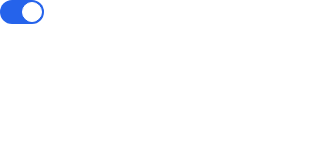
Test case: MuteButton Component › toggles mute state when clicked (toggle variant)
The width and height of the screenshot is (320, 160).
# Click to mute
Click the checkbox.
click(22, 12)  # box 0,0 -> 44,24
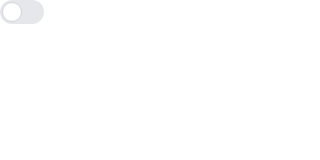
Expected: the checkbox is not checked
# Click to unmute
Click the checkbox.
click(22, 12)  # box 0,0 -> 44,24
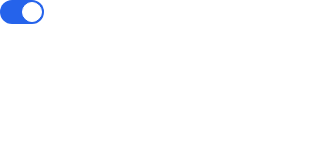
Expected: the checkbox is checked, 0,0 -> 44,24
